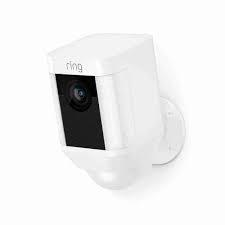tutu: (43, 27, 168, 195)
